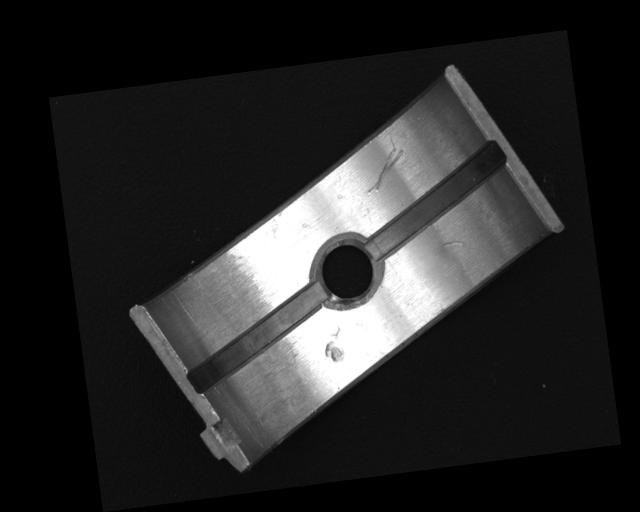bruise: (321, 325, 346, 365)
gap: (357, 139, 517, 259), (179, 280, 333, 394)
hole: (310, 233, 388, 310)
nick: (362, 145, 409, 196), (438, 239, 464, 247)
